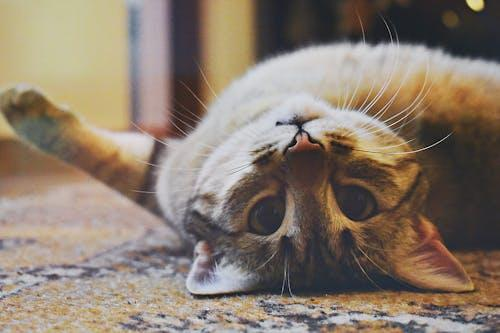kedo: (1, 46, 500, 292)
